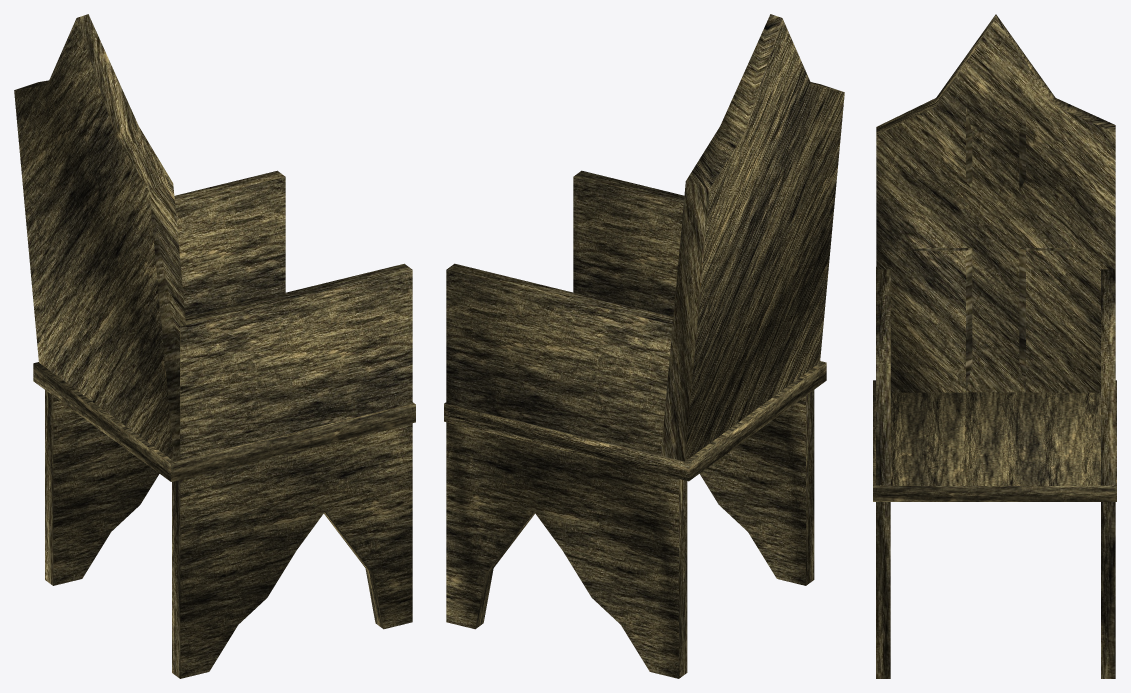
File: chair.fbx
3 views of the same model, side by side, from view 1: azimuth 30°, elevation 25°; view 2: azimuth 150°, elevation 25°; view 3: azimuth 270°, elevation 25° (orthographic). The views are drawn at different scales.
Parts seen in each view (by area): view 1: chair; view 2: chair; view 3: chair.
Boxes of the visible parts, x1,y1,x2,y2 form: chair: (14, 14, 415, 678); chair: (444, 14, 844, 678); chair: (873, 14, 1116, 678).
Bounding box in the file's own units: 14.14 × 31.09 × 12.49.
